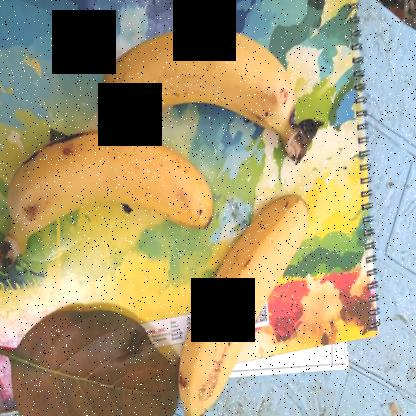freshripe: (161, 188, 314, 416), (1, 123, 226, 235)
ripe: (94, 1, 309, 154)
